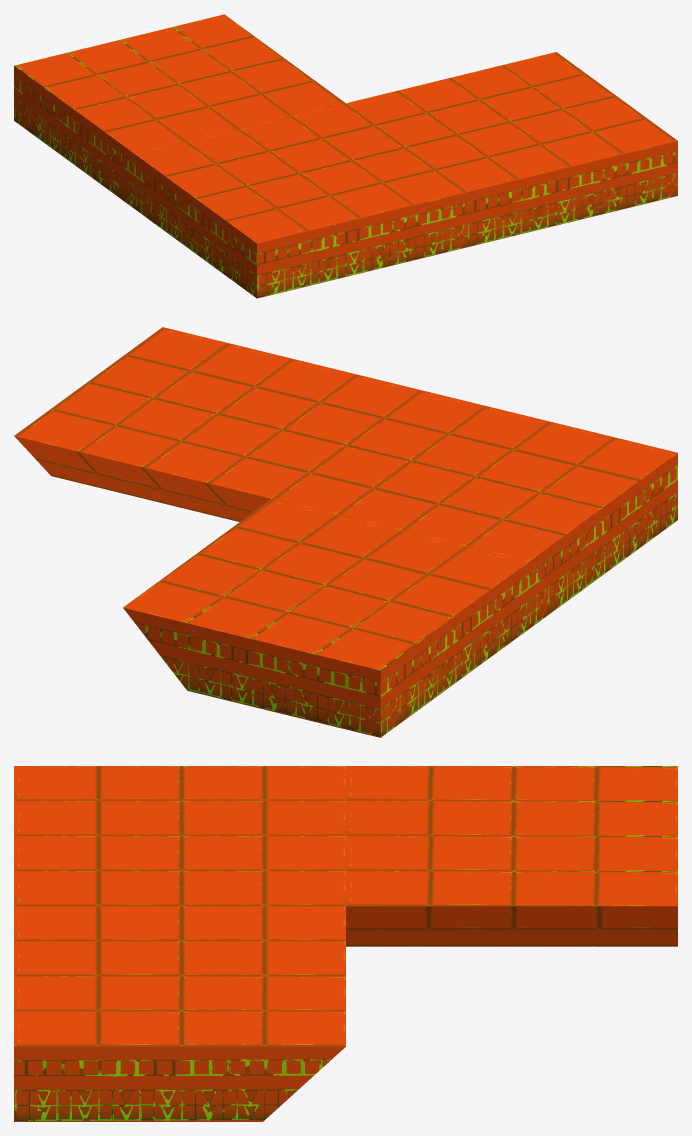
File: Ceiling Corner 01.fbx
3 views of the same model, one above another, from view 1: azimuth 30°, elevation 25°; view 2: azimuth 150°, elevation 25°; view 3: azimuth 270°, elevation 25° (orthographic). The views are drawn at different scales.
Visible parts, largest first — view 1: pCube13; view 2: pCube13; view 3: pCube13.
Part boxes in pixels (x1,y1,x2,y2): pCube13: (14, 14, 677, 298); pCube13: (14, 327, 677, 737); pCube13: (14, 766, 677, 1121).
Bounding box in the file's own units: 400 × 50 × 400.
